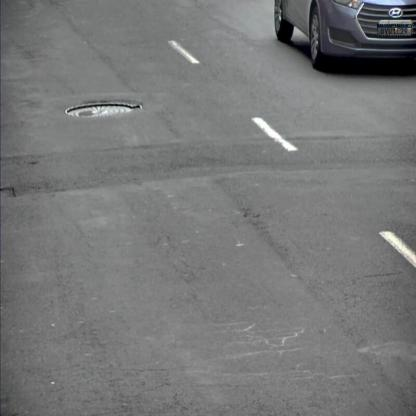PlacaM: (377, 24, 412, 36)
